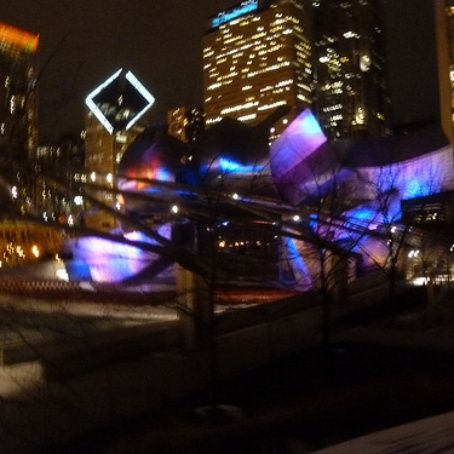building: (200, 1, 315, 134), (307, 1, 399, 143), (92, 71, 157, 220), (1, 27, 41, 215)
